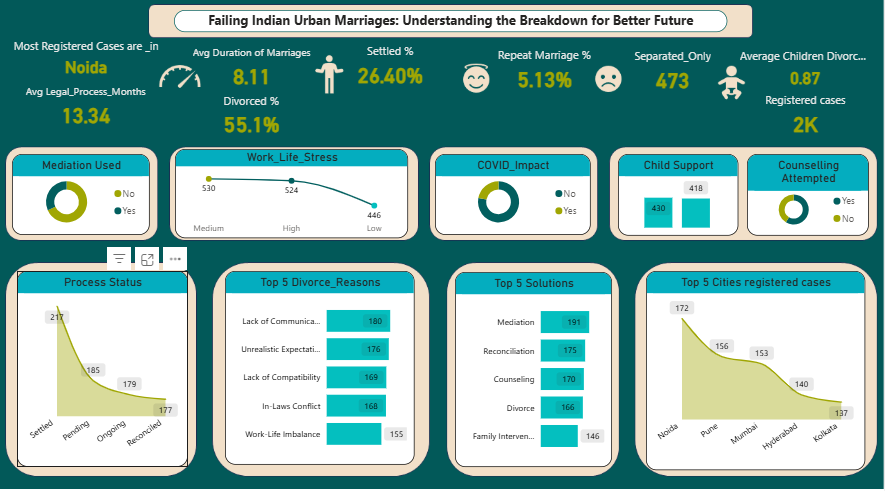

What the dashboard file says about the page in this screenshot:
{"tool":"powerbi","page":{"name":"Page 1","canvas":[1280,720],"ordinal":0},"visuals":[{"type":"textbox","box":[254.3,23.9,800,32.4],"z":0},{"type":"cardVisual","fields":{"Data":["_Measures.Total cases"]},"box":[1055.7,104.9,224.6,139.3],"z":1000},{"type":"cardVisual","fields":{"Data":["_Measures.Separated_Only"]},"box":[880.4,43.1,190.2,137.3],"z":2000},{"type":"cardVisual","fields":{"Data":["_Measures.Divorced"]},"box":[278.4,105.9,174.5,141.2],"z":3000},{"type":"cardVisual","fields":{"Data":["_Measures.Avg Duration of Marriages"]},"box":[255.6,38.1,222.2,138.1],"z":4000},{"type":"cardVisual","fields":{"Data":["_Measures.Repeat Marriage %"]},"box":[691.8,40.8,195.9,138.8],"z":5000},{"type":"cardVisual","fields":{"Data":["_Measures.Avg Children Divorced & Separate cases"]},"box":[1055.6,39.7,223.8,138.1],"z":6000},{"type":"cardVisual","fields":{"Data":["_Measures.Settled %"]},"box":[479.4,34.9,174.6,138.1],"z":7000},{"type":"clusteredBarChart","title":" Top 5 Divorce_Reasons","fields":{"Category":["Reasons.Divorce_Reason"],"Y":["_Measures.Total cases"]},"box":[328.1,401.7,274,279.8],"z":8000},{"type":"areaChart","title":"Top 5 Cities registered cases ","fields":{"Y":["_Measures.As per Data Trend Registered cases"],"Category":["Divorce Data.Location_City"]},"box":[936.8,401.9,316.5,287.7],"z":9000},{"type":"areaChart","title":"Process Status ","fields":{"Y":["_Measures.As per Data Trend Registered cases"],"Category":["Divorce Data.Process_Status"]},"box":[27.4,401.9,246.7,283],"z":10000},{"type":"donutChart","title":"Mediation Used","fields":{"Y":["_Measures.As per Data Trend Registered cases"],"Category":["Divorce Data.Mediation_Used"]},"box":[19.8,232.2,198.8,117.4],"z":11000},{"type":"clusteredBarChart","title":" Top 5 Solutions","fields":{"Y":["_Measures.Total cases"],"Category":["Divorce Data.Solution_Adopted"]},"box":[660.8,403.3,226.9,281.6],"z":12000},{"type":"donutChart","title":"COVID_Impact","fields":{"Y":["_Measures.As per Data Trend Registered cases"],"Category":["Divorce Data.COVID_Impact"]},"box":[632.2,232.2,224.8,117.4],"z":13000},{"type":"cardVisual","fields":{"Data":["_Measures.Most Registered Cases are _in"]},"box":[0,23.8,255.6,139.7],"z":14000},{"type":"cardVisual","fields":{"Data":["_Measures.Avg_Legal_Process_Duration"]},"box":[15.9,94,222.7,138.8],"z":15000},{"type":"lineChart","title":"Work_Life_Stress","fields":{"Category":["Divorce Data.Work_Life_Stress"],"Y":["_Measures.As per Data Trend Registered cases"]},"box":[255.7,225.3,337,129],"z":16000},{"type":"columnChart","title":"Child Support ","fields":{"Y":["_Measures.As per Data Trend Registered cases"],"Category":["Divorce Data.Child_Support"]},"box":[896.7,232.6,173.9,118.5],"z":17000},{"type":"donutChart","title":"Counselling Attempted ","fields":{"Category":["Divorce Data.Counseling_Attempted"],"Y":["_Measures.As per Data Trend Registered cases"]},"box":[1082.6,232.6,176.1,118.5],"z":18000}]}

Visuals, with their boxes in screenshot pixels (x1, y1, x2, y2), scaled from the page's 1280x720 canvas onto the 885x491 screenshot:
textbox: (left=176, top=16, right=729, bottom=38)
cardVisual - _Measures.Total cases: (left=730, top=72, right=884, bottom=167)
cardVisual - _Measures.Separated_Only: (left=609, top=29, right=740, bottom=123)
cardVisual - _Measures.Divorced: (left=192, top=72, right=313, bottom=169)
cardVisual - _Measures.Avg Duration of Marriages: (left=177, top=26, right=330, bottom=120)
cardVisual - _Measures.Repeat Marriage %: (left=478, top=28, right=614, bottom=122)
cardVisual - _Measures.Avg Children Divorced & Separate cases: (left=730, top=27, right=884, bottom=121)
cardVisual - _Measures.Settled %: (left=331, top=24, right=452, bottom=118)
" Top 5 Divorce_Reasons" clusteredBarChart: (left=227, top=274, right=416, bottom=465)
"Top 5 Cities registered cases " areaChart: (left=648, top=274, right=867, bottom=470)
"Process Status " areaChart: (left=19, top=274, right=190, bottom=467)
"Mediation Used" donutChart: (left=14, top=158, right=151, bottom=238)
" Top 5 Solutions" clusteredBarChart: (left=457, top=275, right=614, bottom=467)
"COVID_Impact" donutChart: (left=437, top=158, right=593, bottom=238)
cardVisual - _Measures.Most Registered Cases are _in: (left=0, top=16, right=177, bottom=111)
cardVisual - _Measures.Avg_Legal_Process_Duration: (left=11, top=64, right=165, bottom=159)
"Work_Life_Stress" lineChart: (left=177, top=154, right=410, bottom=242)
"Child Support " columnChart: (left=620, top=159, right=740, bottom=239)
"Counselling Attempted " donutChart: (left=749, top=159, right=870, bottom=239)
